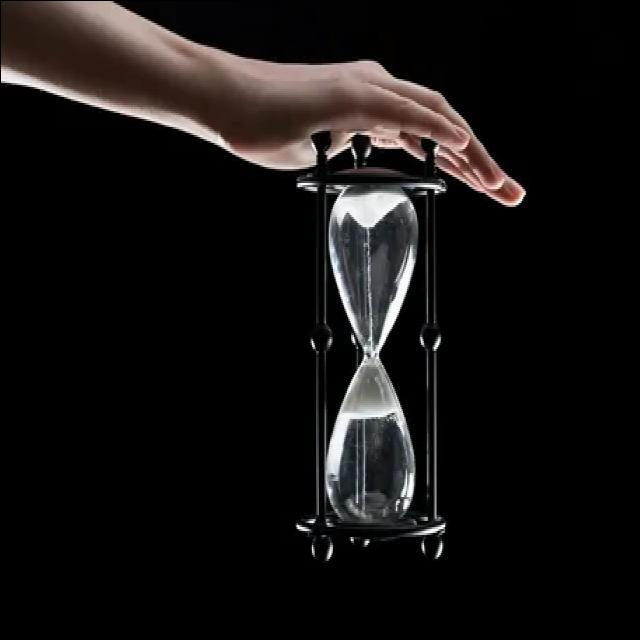clock: (290, 136, 452, 576)
